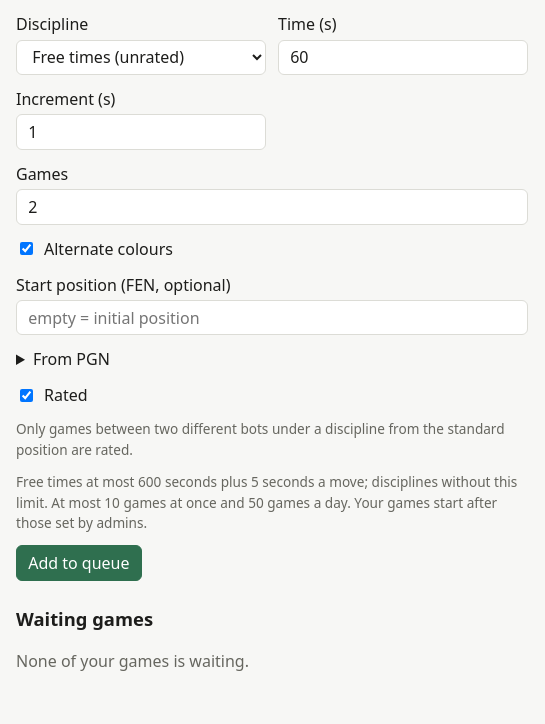
Test: my bots page › explains a refused request with the coder limits
The width and height of the screenshot is (545, 724).
(page scrolled)
Click the button "Add to queue". click: (79, 563)
box: [16,545,142,581]
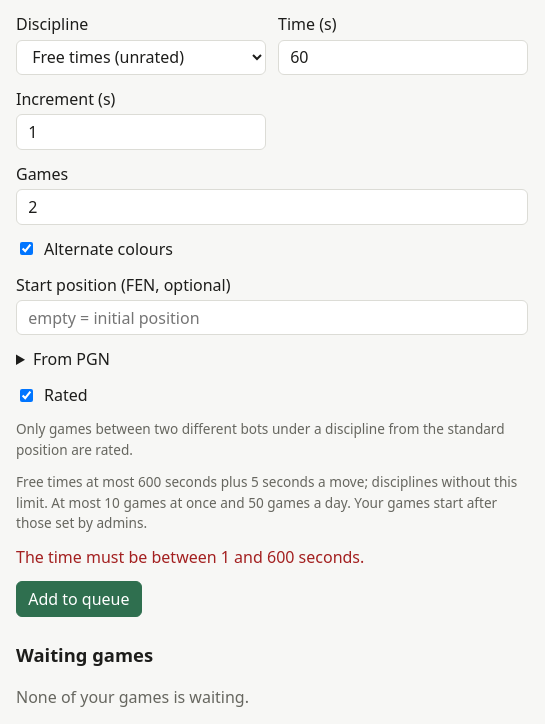
Check: the text "at most 600 seconds plus 5 seconds" shows "At most 10 games at once and 50 games a day.", box [16,472,517,532]
Check: the message reads "The time must be between 1 and 600 seconds.", box [16,546,364,568]
